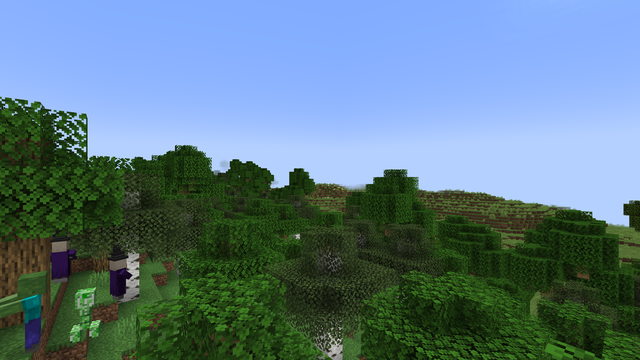creepers: (73, 284, 96, 343)
sorcieres: (51, 236, 70, 283), (109, 255, 125, 302)
zombies: (13, 271, 50, 357)
